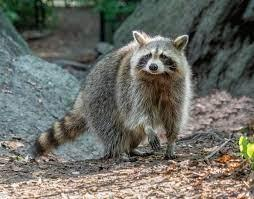raccoon: (20, 23, 201, 170)
